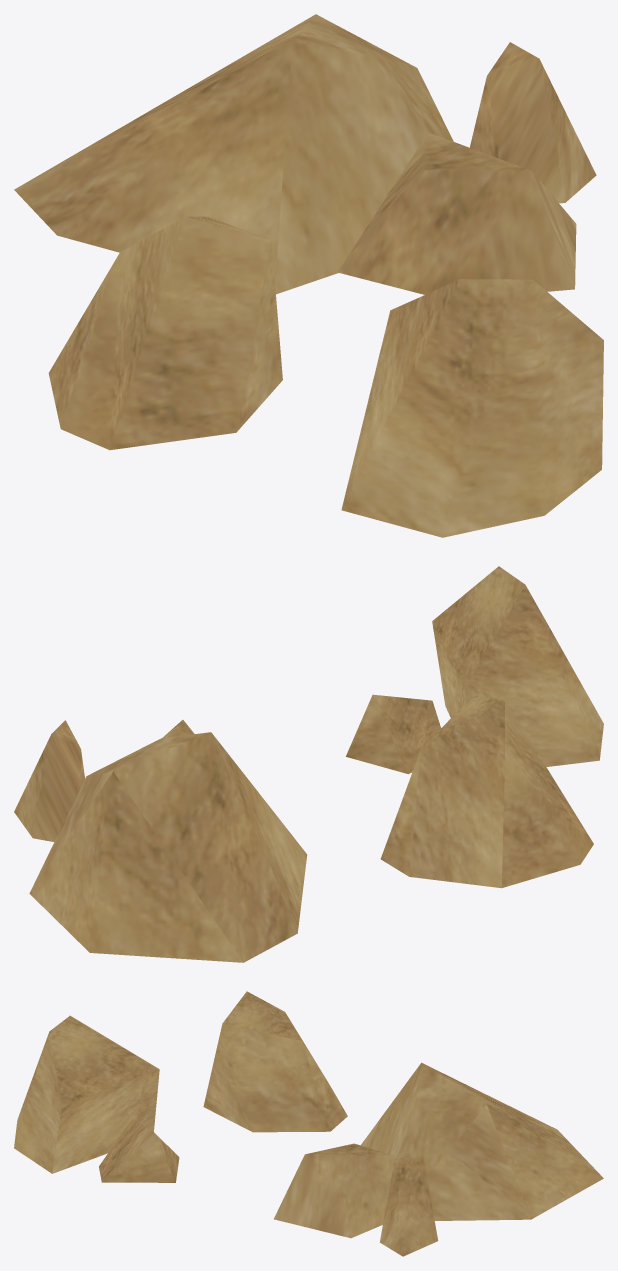
File: rock_clump03.glb
3 renders of one model, top to bottom at view 1: azimuth 30°, elevation 25°; view 2: azimuth 150°, elevation 25°; view 3: azimuth 270°, elevation 25°, orthographic. The views are drawn at different scales.
Visible parts, largest first — view 1: Sphere01; view 2: Sphere01; view 3: Sphere01.
Part boxes in pixels (x1,y1,x2,y2): Sphere01: (14, 14, 603, 537); Sphere01: (14, 566, 603, 962); Sphere01: (14, 991, 603, 1256).
Size of the model in its own units: 19.52 by 5.96 by 25.95.
1 material, 1 textured.
